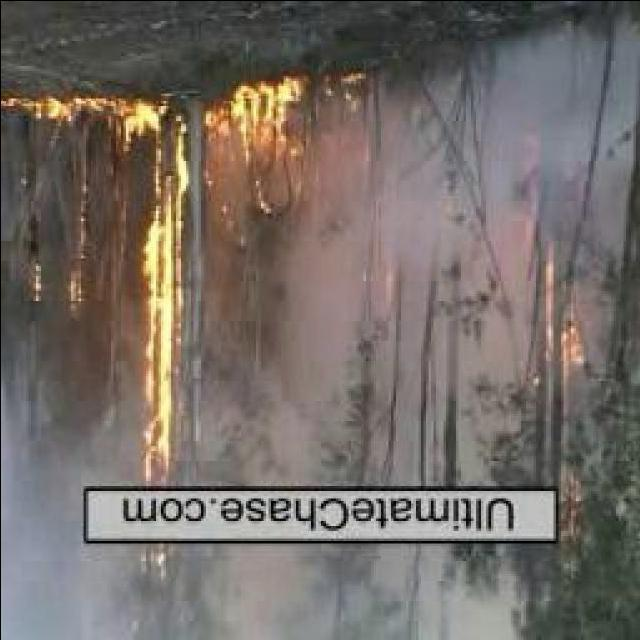Fire: (0, 89, 321, 186), (132, 180, 189, 522), (541, 248, 582, 382), (66, 212, 88, 316), (558, 480, 588, 553), (26, 238, 42, 301)
